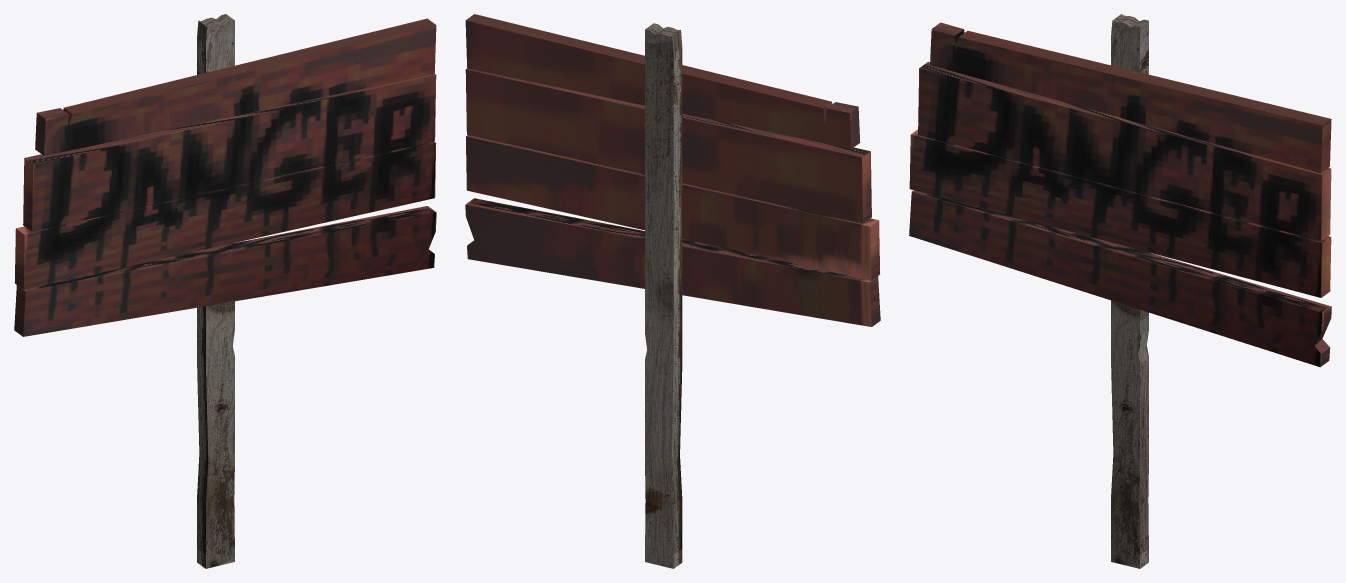
The model's file is sign_danger.dae.
3 renders of one model, left to right at view 1: azimuth 30°, elevation 25°; view 2: azimuth 150°, elevation 25°; view 3: azimuth 330°, elevation 25°, orthographic.
Parts seen in each view (by area): view 1: polySurface3, polySurface4; view 2: polySurface3, polySurface4; view 3: polySurface3, polySurface4.
Part boxes in pixels (<box>): polySurface3: <box>14,18,436,336</box>; polySurface4: <box>197,14,234,568</box>; polySurface3: <box>465,14,880,326</box>; polySurface4: <box>645,23,682,568</box>; polySurface3: <box>909,22,1331,367</box>; polySurface4: <box>1111,14,1148,568</box>.
Bounding box in the file's own units: 2.33 × 2.92 × 0.1824.
